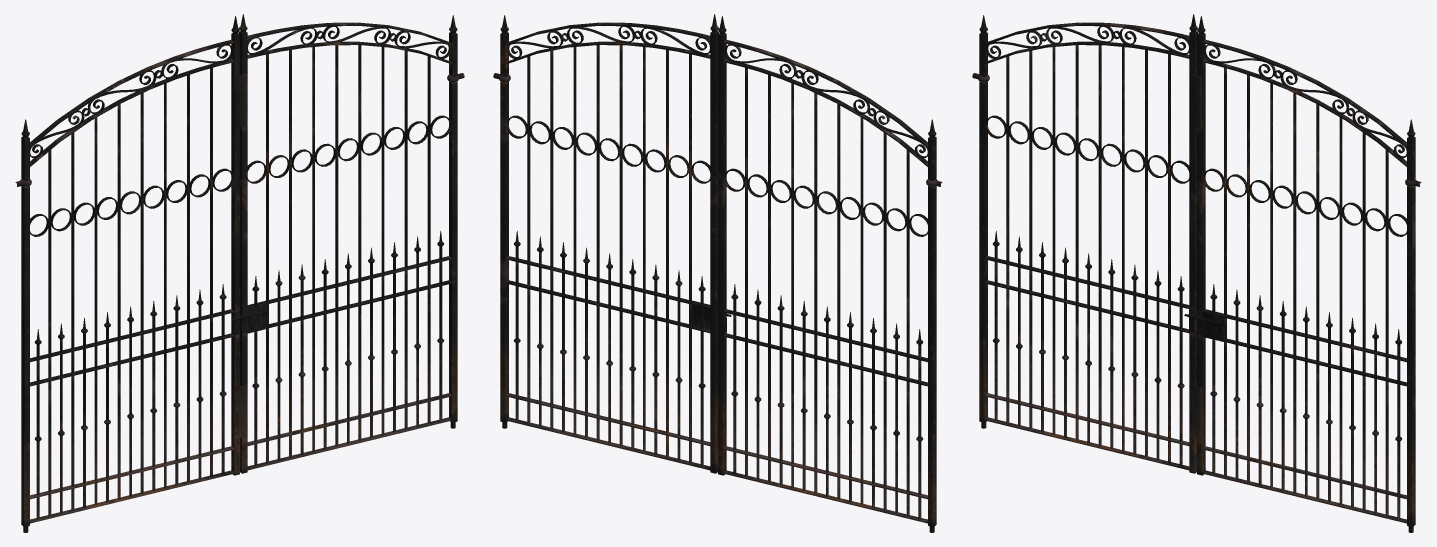
The model's file is cc0_gate.glb.
3 renders of one model, left to right at view 1: azimuth 30°, elevation 25°; view 2: azimuth 150°, elevation 25°; view 3: azimuth 330°, elevation 25°, orthographic.
Visible parts, largest first — view 1: large_iron_gate; view 2: large_iron_gate; view 3: large_iron_gate.
Part boxes in pixels (bbox=[...]): large_iron_gate: bbox=[15, 14, 464, 532]; large_iron_gate: bbox=[493, 14, 942, 532]; large_iron_gate: bbox=[972, 14, 1421, 532].
Size of the model in its own units: 2.95 by 2.93 by 0.0973.
1 material, 1 textured.
